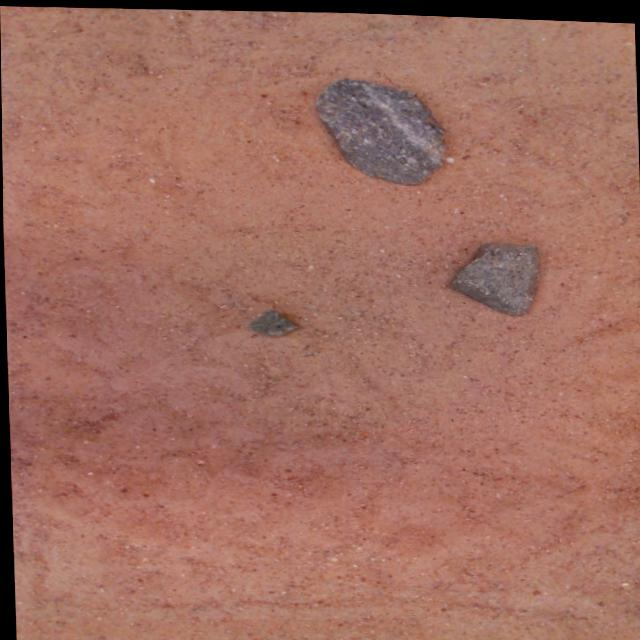rock: (315, 77, 444, 182), (451, 239, 537, 311), (249, 309, 296, 334)
